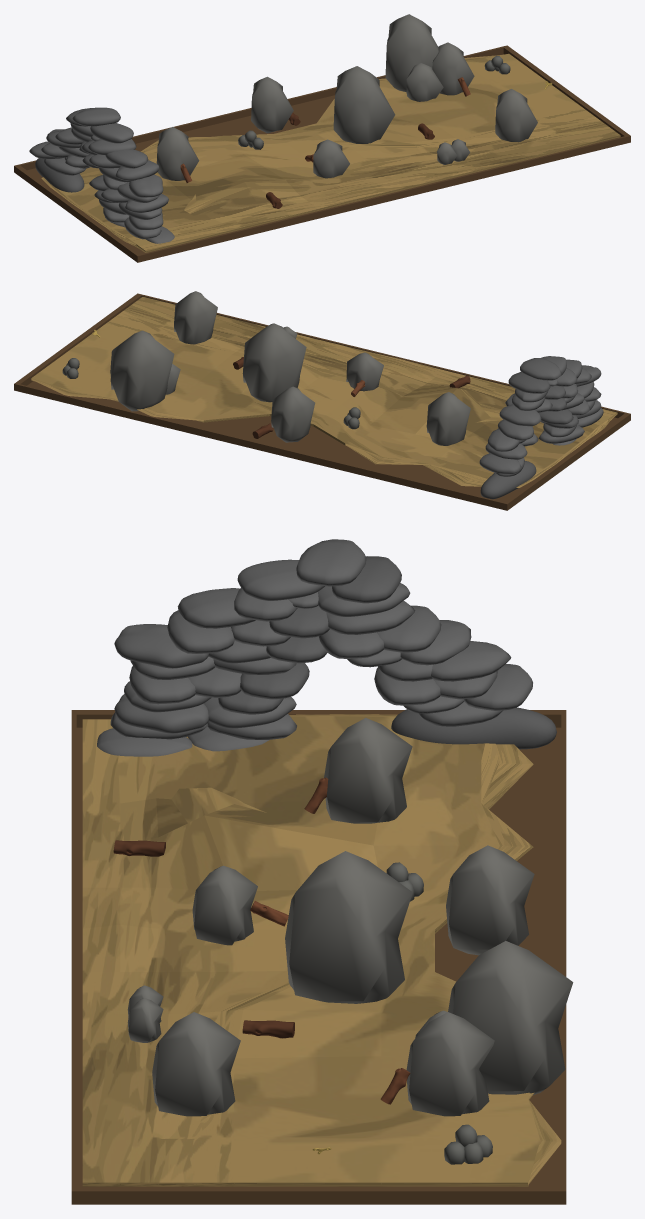
Rendered from escenario2.glb.
3 renders of one model, top to bottom at view 1: azimuth 30°, elevation 25°; view 2: azimuth 150°, elevation 25°; view 3: azimuth 270°, elevation 25°, orthographic. The views are drawn at different scales.
Parts seen in each view (by area): view 1: Cube.001, Cube, Esfera geodésica.005, Esfera geodésica.001, Esfera geodésica.010, Esfera geodésica.006, Esfera geodésica.007, Esfera geodésica.002, Esfera geodésica.004, Esfera geodésica.003, Cubo.003, Cubo.035 (+8 smaller); view 2: Cube.001, Cube, Esfera geodésica.001, Esfera geodésica.005, Esfera geodésica.010, Esfera geodésica.007, Esfera geodésica.006, Esfera geodésica.004, Cubo.003, Cubo.035, Cubo.036, Cubo.023 (+6 smaller); view 3: Cube.001, Cube, Esfera geodésica.005, Esfera geodésica.001, Esfera geodésica.007, Esfera geodésica.010, Esfera geodésica.006, Esfera geodésica.002, Cubo.003, Esfera geodésica.004, Cubo.035, Cubo.029 (+31 smaller).
Part boxes in pixels (x1,y1,x2,y2): Cube.001: (41, 53, 620, 252); Cube: (14, 45, 630, 262); Esfera geodésica.005: (333, 66, 395, 143); Esfera geodésica.001: (385, 14, 438, 92); Esfera geodésica.010: (251, 76, 293, 133); Esfera geodésica.006: (495, 89, 537, 142); Esfera geodésica.007: (156, 127, 199, 180); Esfera geodésica.002: (432, 42, 474, 95); Esfera geodésica.004: (313, 139, 349, 178); Esfera geodésica.003: (406, 63, 443, 101); Cubo.003: (35, 158, 84, 192); Cubo.035: (72, 107, 120, 126); Cube.001: (31, 297, 617, 487); Cube: (14, 293, 630, 510); Esfera geodésica.001: (110, 330, 174, 411); Esfera geodésica.005: (242, 323, 306, 402); Esfera geodésica.010: (271, 386, 315, 442); Esfera geodésica.007: (426, 392, 470, 445); Esfera geodésica.006: (174, 291, 217, 344); Esfera geodésica.004: (346, 352, 383, 391); Cubo.003: (480, 461, 536, 499); Cubo.035: (520, 358, 561, 380); Cubo.036: (508, 372, 550, 393); Cubo.023: (499, 404, 541, 426); Cube.001: (82, 714, 561, 1186); Cube: (71, 710, 566, 1204); Esfera geodésica.005: (285, 851, 412, 1003); Esfera geodésica.001: (448, 941, 573, 1094); Esfera geodésica.007: (324, 718, 412, 823); Esfera geodésica.010: (446, 845, 534, 955); Esfera geodésica.006: (152, 1012, 240, 1116); Esfera geodésica.002: (406, 1012, 494, 1116); Cubo.003: (391, 707, 556, 749); Esfera geodésica.004: (192, 865, 257, 945); Cubo.035: (296, 539, 366, 586); Cubo.029: (114, 624, 208, 668).
Bounding box in the file's own units: 29.98 × 5.75 × 13.2.
Materials: 58 (1 with a texture image).
